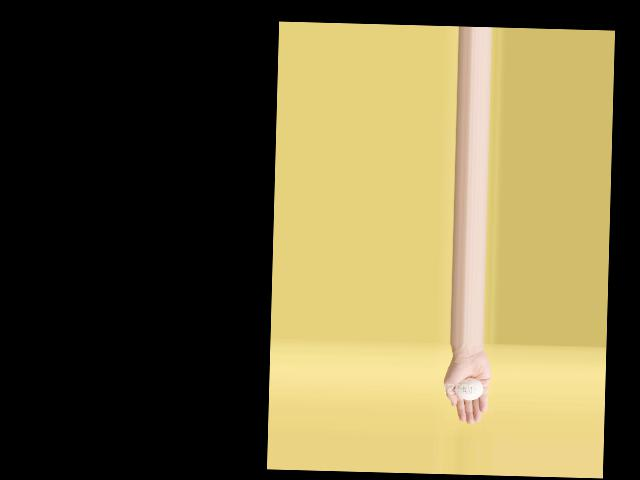egg: (454, 377, 483, 400)
